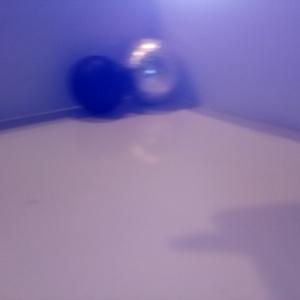alive_ball: (121, 37, 181, 104)
dead_ball: (67, 54, 126, 114)
